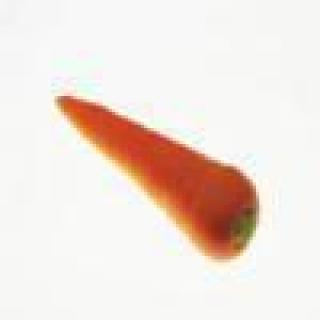Wortel: (39, 87, 273, 273)
